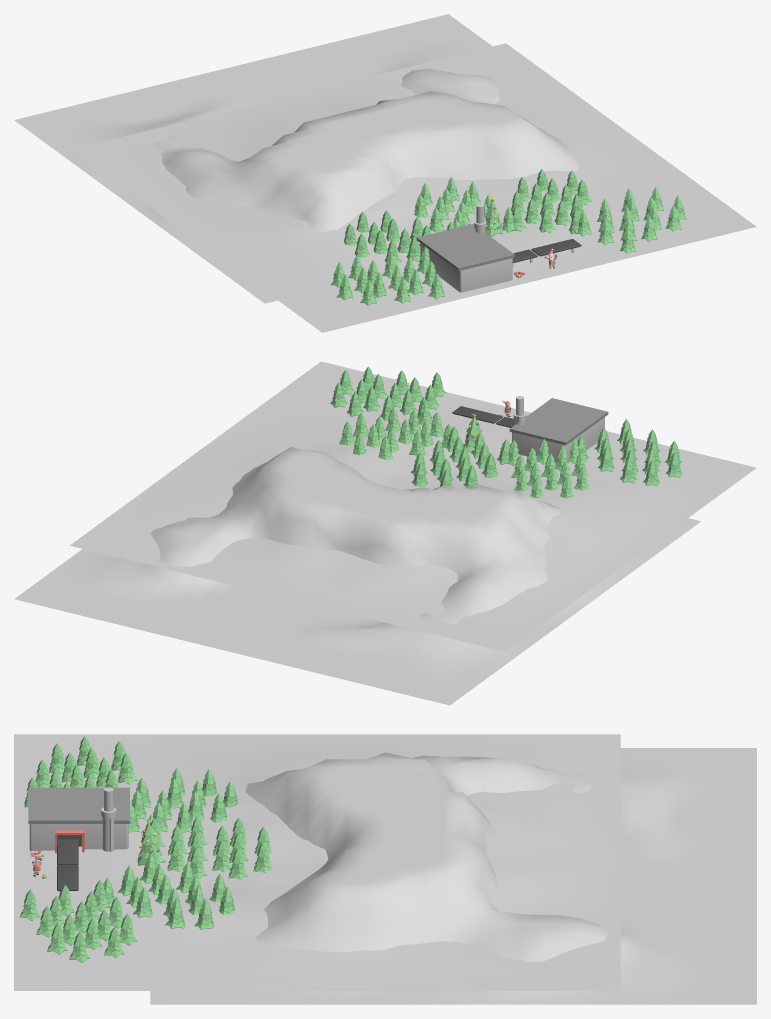
3 views of the same model, one above another, from view 1: azimuth 30°, elevation 25°; view 2: azimuth 150°, elevation 25°; view 3: azimuth 270°, elevation 25° (orthographic). The views are drawn at different scales.
Parts seen in each view (by area): view 1: Scene.1, Cube; view 2: Scene.1, Cube; view 3: Scene.1, Cube.
Part boxes in pixels (box(x1,y1,x2,y2)): Scene.1: box(14, 14, 756, 332); Cube: box(416, 224, 514, 270); Scene.1: box(14, 361, 756, 705); Cube: box(509, 398, 608, 445); Scene.1: box(14, 734, 756, 1004); Cube: box(28, 787, 129, 823).
Bounding box in the file's own units: 5012 × 748 × 6124.
